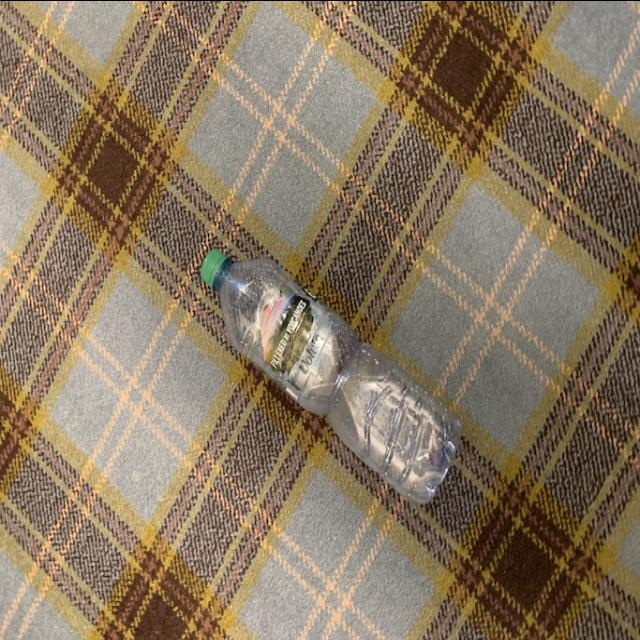PET: (198, 252, 466, 506)
